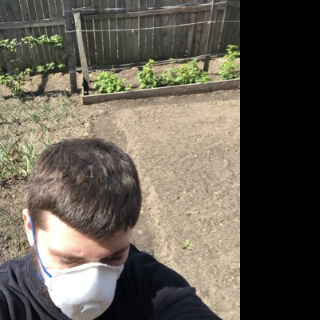with_mask: (38, 235, 131, 320)
